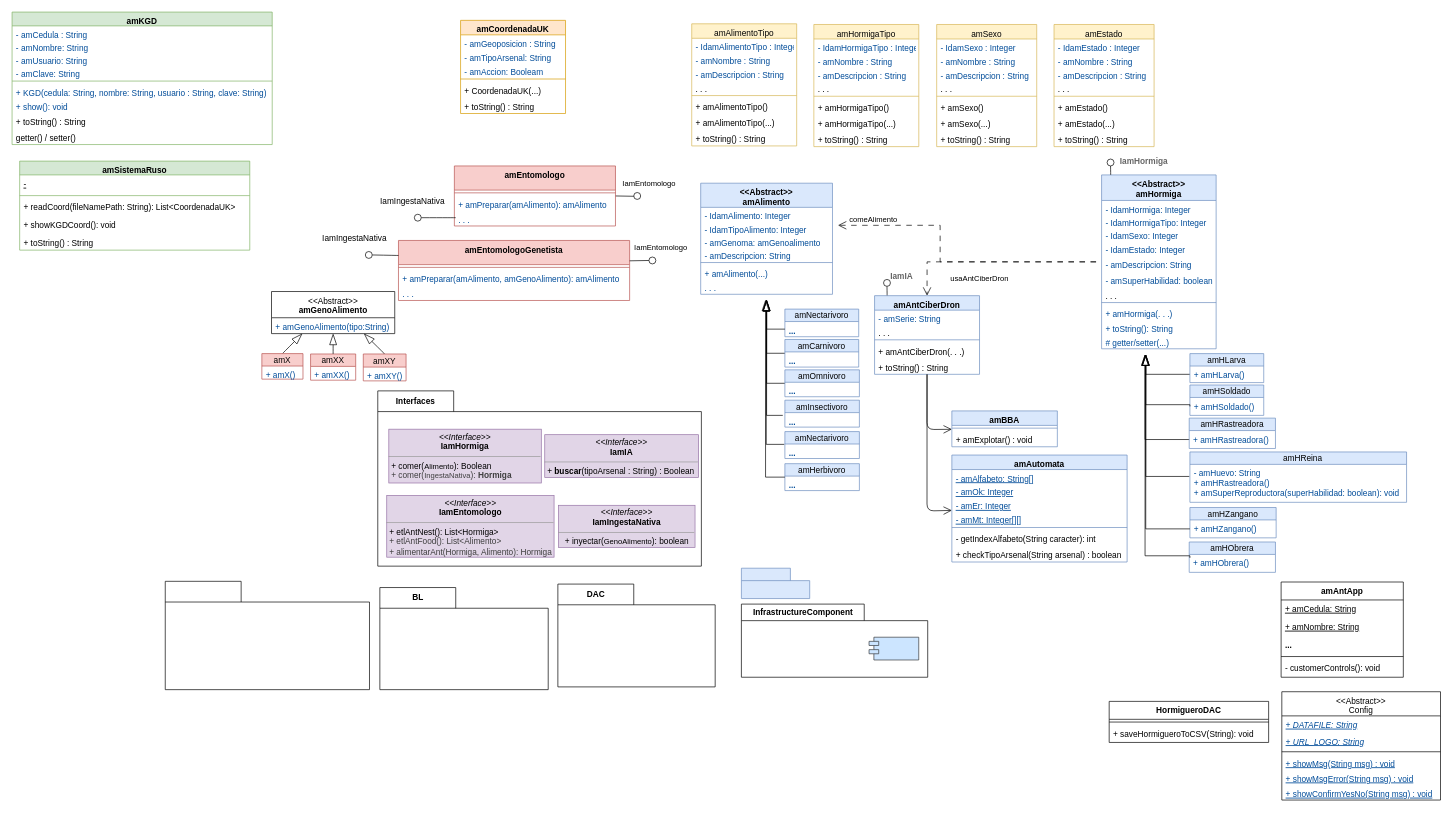
The diagram is 1453 pixels wide and 814 high, and some of its shapes have lost their labels. Each missing label, with the centre of its shape:
"GUI" belongs at point (267, 635).
"Resource" belongs at point (775, 583).
"Tools" belongs at point (893, 648).
